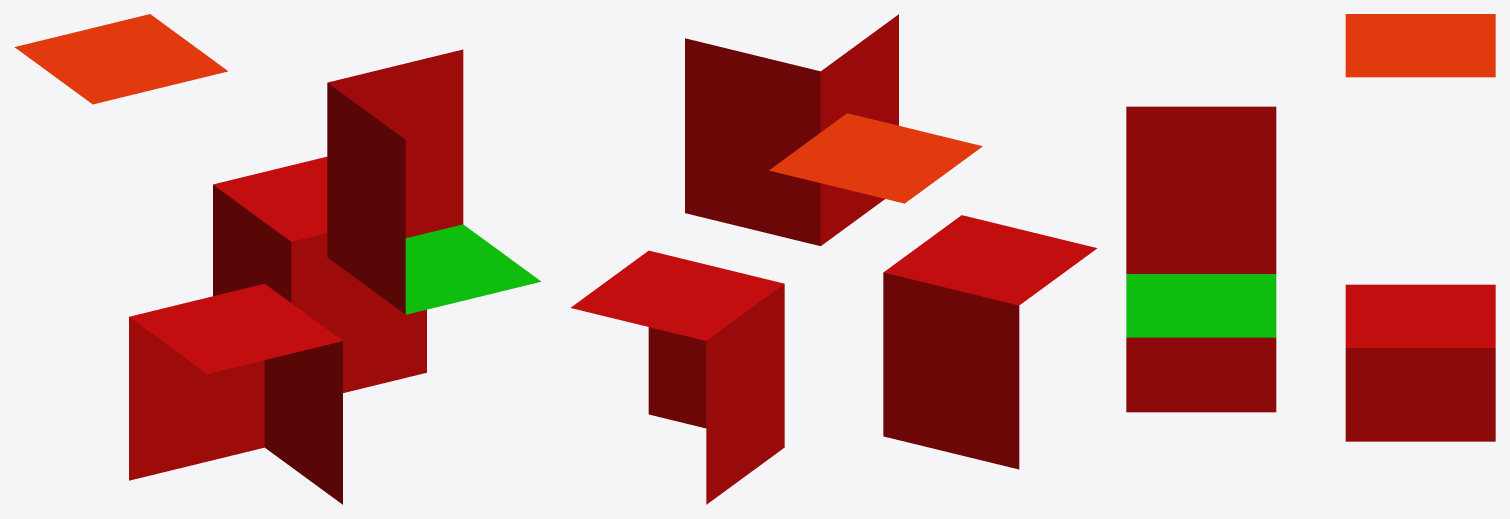
3 renders of one model, left to right at view 1: azimuth 30°, elevation 25°; view 2: azimuth 150°, elevation 25°; view 3: azimuth 270°, elevation 25°, orthographic. The views are drawn at different scales.
Parts seen in each view (by area): view 1: None_E_W_A_E_S_E_E_A_None; view 2: None_E_W_A_E_S_E_E_A_None; view 3: None_E_W_A_E_S_E_E_A_None.
Boxes of the visible parts, left/top/right/bottom form: None_E_W_A_E_S_E_E_A_None: left=14, top=14, right=540, bottom=504; None_E_W_A_E_S_E_E_A_None: left=571, top=14, right=1097, bottom=504; None_E_W_A_E_S_E_E_A_None: left=1126, top=14, right=1495, bottom=441.
Size of the model in its own units: 100 by 100 by 100.
